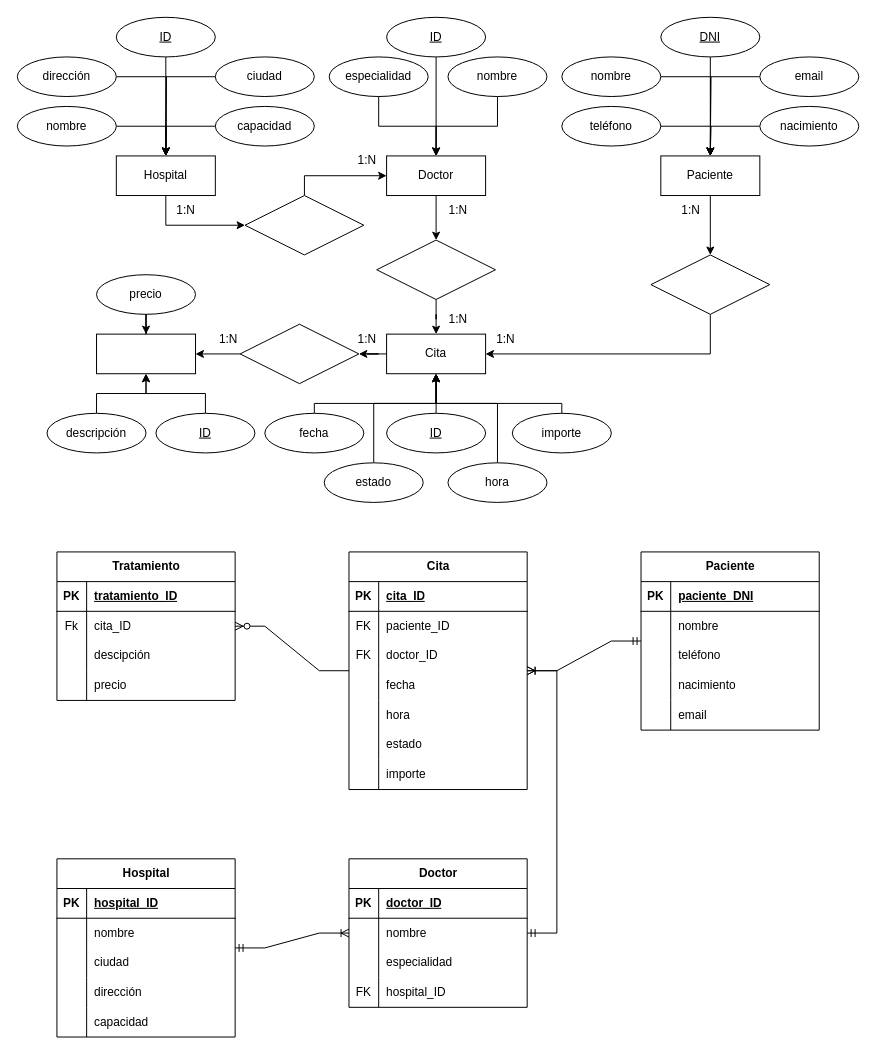
The diagram is 876 pixels wide and 1054 high, and some of its shapes have lost their labels. Here are the shapes that lost their labels. From the top down, the centre of each, then its label:
At [304,225]: "Trabajan".
At [435,269]: "tiene".
At [710,284]: "Pide".
At [146,353]: "Trataniento".
At [299,353]: "Se usa".
